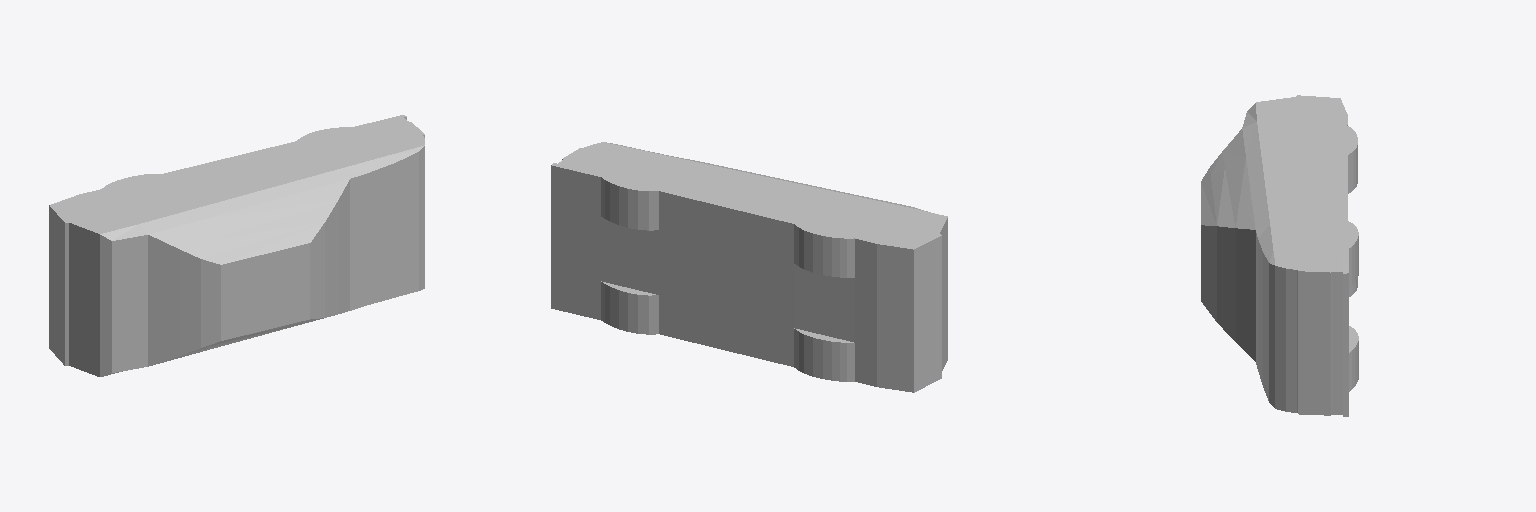
The model's file is car.obj.
The picture shows the model from 3 angles: view 1: azimuth 30°, elevation 25°; view 2: azimuth 150°, elevation 25°; view 3: azimuth 270°, elevation 25°; orthographic projection.
Parts seen in each view (by area): view 1: MAS; view 2: MAS; view 3: MAS.
Part boxes in pixels (left/top/right/bottom): MAS: left=49, top=115, right=424, bottom=376; MAS: left=551, top=142, right=947, bottom=392; MAS: left=1201, top=95, right=1358, bottom=416.
Bounding box in the file's own units: 5.21 × 1.95 × 1.95.